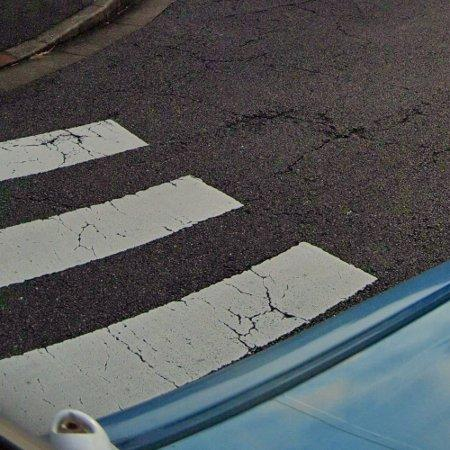crosswalks: (0, 116, 380, 437)
